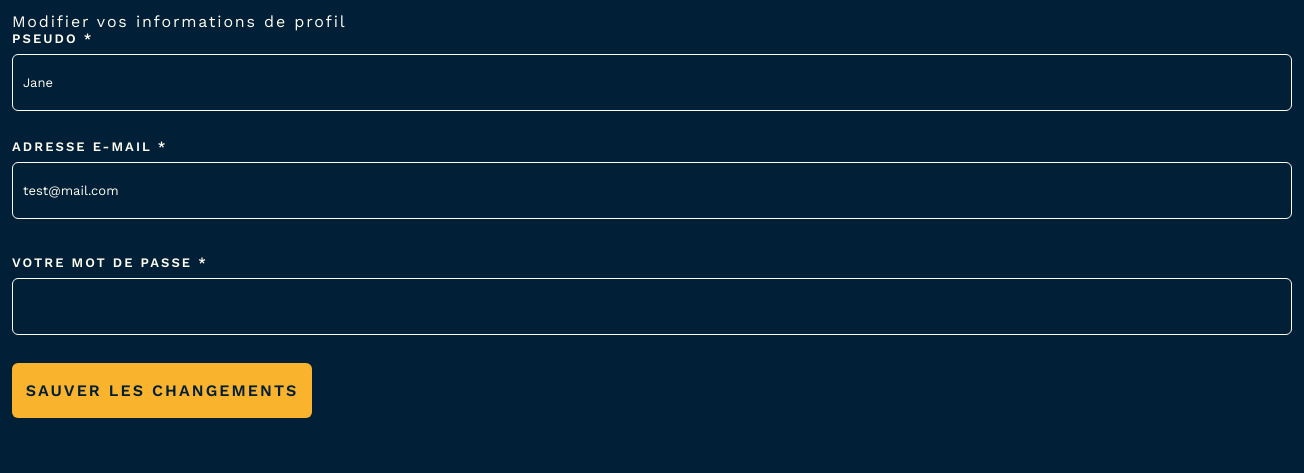
Test case: UpdateProfileForm component tests › should set pseudo error if new pseudo is under 4 characters
Replace the text in the field labelled "Pseudo *" with "joe": (652, 82) [12,54,1292,111]
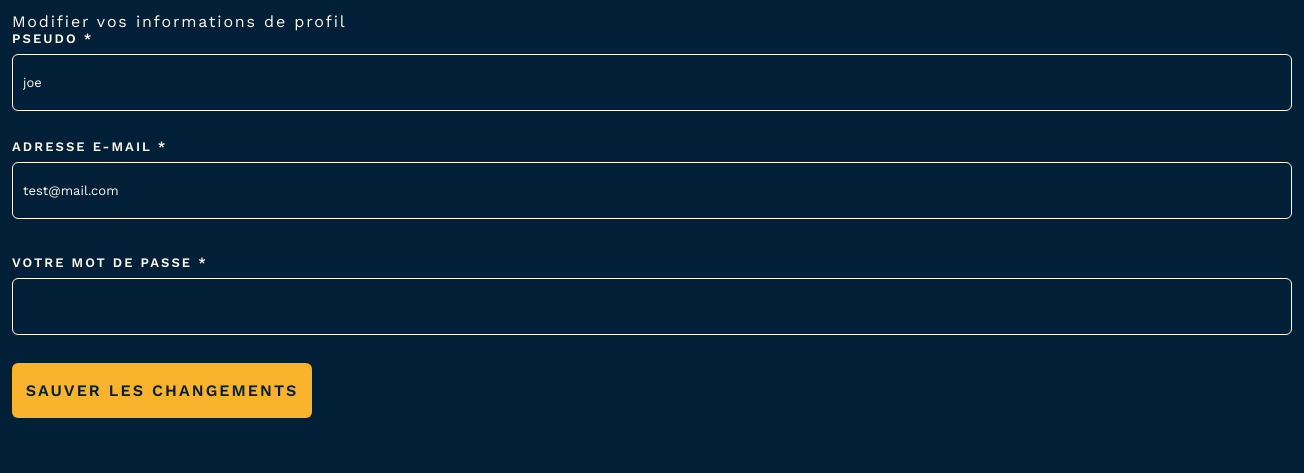
Submit the form from the button "Sauver les changements", box [12,363,312,418]
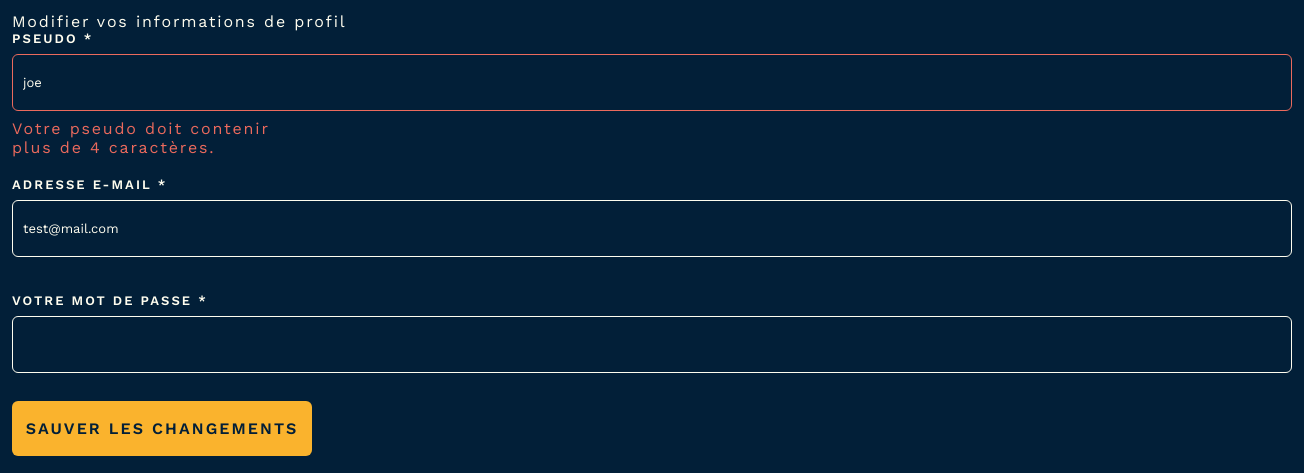
Expected: the text "Votre pseudo doit contenir plus de 4 caractères." is shown, [12,119,312,157]
